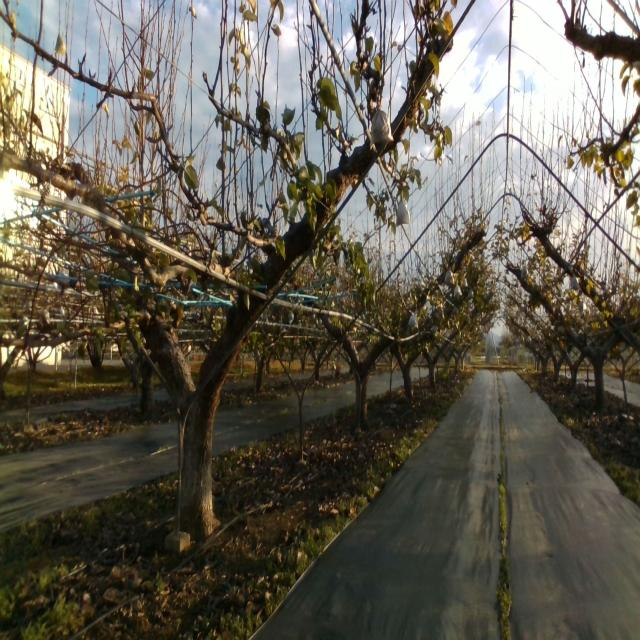pearbags: (368, 108, 394, 149), (395, 196, 412, 227), (570, 272, 581, 292), (408, 311, 419, 330), (444, 267, 454, 286)
